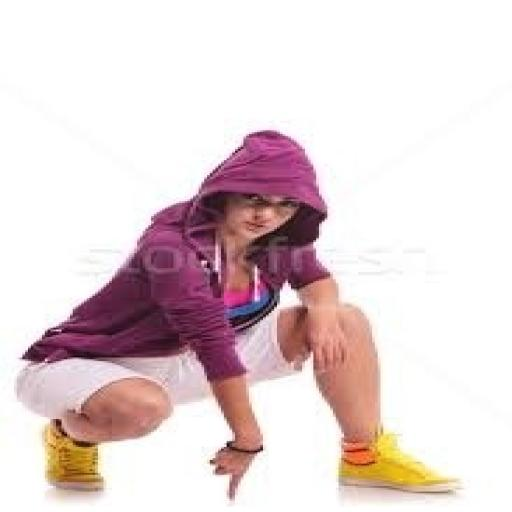dancing: (12, 126, 464, 500)
